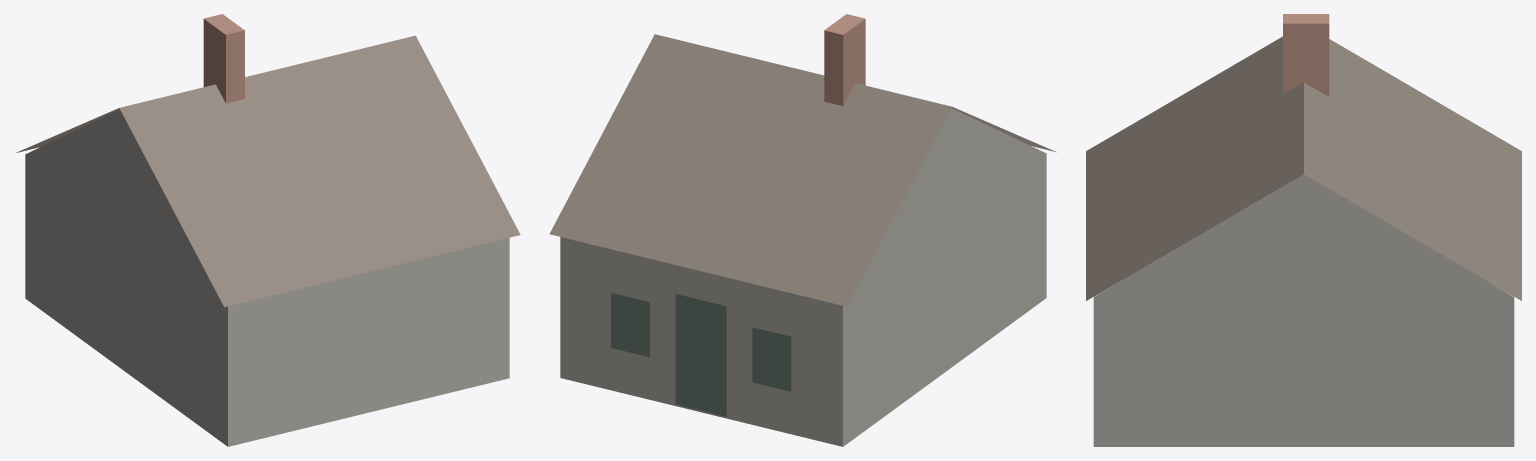
Rendered from recon_1835_south_d1_021__recommended_1835.glb.
3 views of the same model, side by side, from view 1: azimuth 30°, elevation 25°; view 2: azimuth 150°, elevation 25°; view 3: azimuth 270°, elevation 25° (orthographic). The views are drawn at different scales.
Visible parts, largest first — view 1: recon_1835_south_d1_021__recommended_1835; view 2: recon_1835_south_d1_021__recommended_1835; view 3: recon_1835_south_d1_021__recommended_1835.
Boxes of the visible parts, x1,y1,x2,y2 form: recon_1835_south_d1_021__recommended_1835: (15, 14, 520, 446); recon_1835_south_d1_021__recommended_1835: (549, 14, 1056, 446); recon_1835_south_d1_021__recommended_1835: (1086, 14, 1521, 446).
Size of the model in its own units: 5.64 by 5.88 by 6.92.
